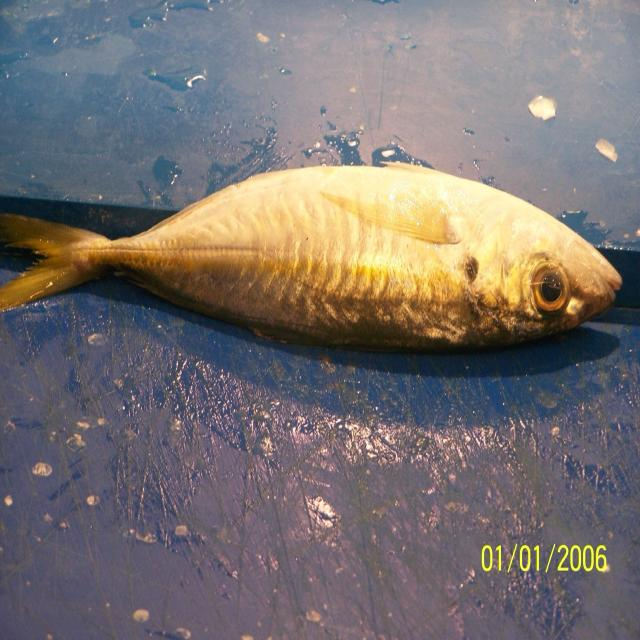Hourse-Mackerel-istavrit-: (0, 164, 622, 355)
